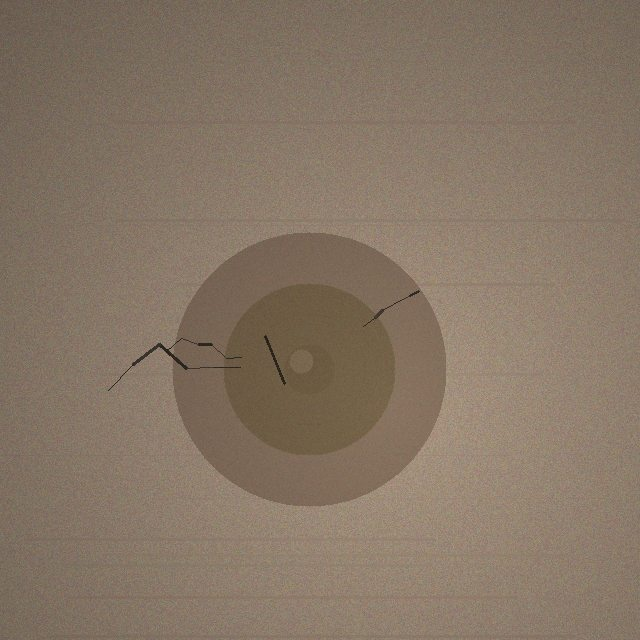crack: (172, 232, 446, 506)
